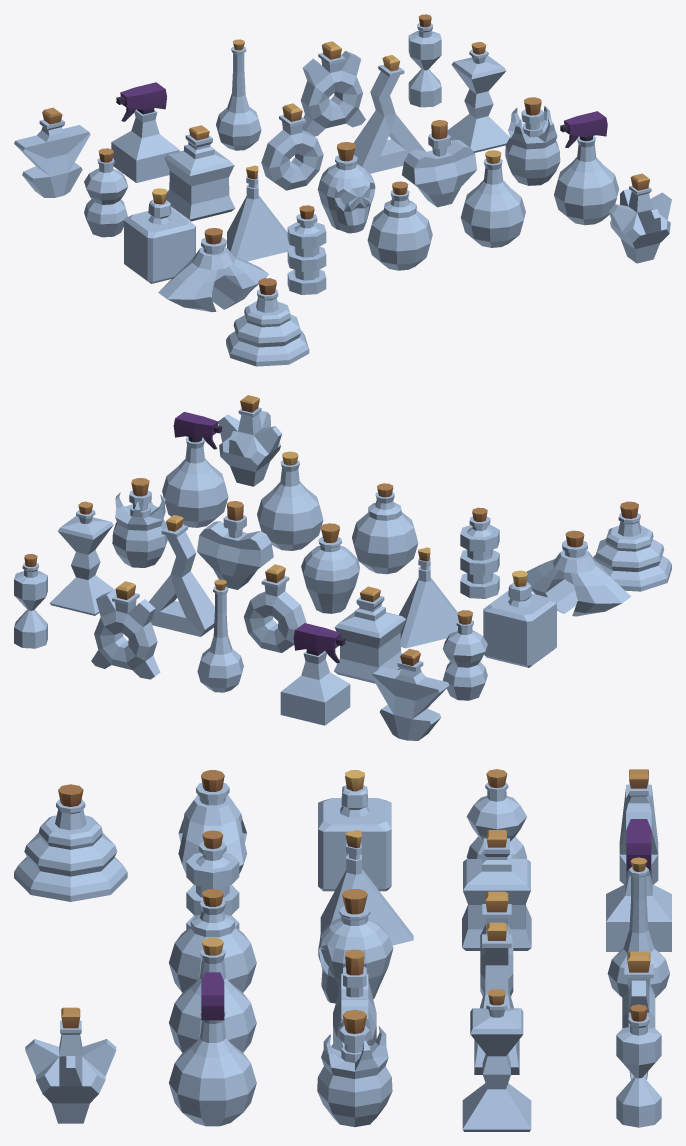
The model's file is Potions.fbx.
3 views of the same model, one above another, from view 1: azimuth 30°, elevation 25°; view 2: azimuth 150°, elevation 25°; view 3: azimuth 270°, elevation 25° (orthographic). The views are drawn at different scales.
Visible parts, largest first — view 1: Noctomulis, Parevimus, Frastimus, Muciesendis, Kafudiem, Acocumulis, Naciesendis, Destaminius, Aneleculumio, Ponvacilium, Magiviris, Vitis (+10 smaller); view 2: Frastimus, Parevimus, Noctomulis, Naciesendis, Acocumulis, Muciesendis, Aneleculumio, Kafudiem, Destaminius, Ponvacilium, Magiviris, Vitis (+10 smaller); view 3: Kafudiem, Parevimus, Igminius, Usastaminius, Frastimus, Revitris, Muciesendis, Antivitis, Magiviris, Ponvacilium, Naciesendis, Nodurmius (+10 smaller).
Part boxes in pixels (bbox=[...]): Noctomulis: bbox=[158, 228, 268, 312]; Parevimus: bbox=[554, 111, 618, 225]; Frastimus: bbox=[124, 188, 195, 283]; Muciesendis: bbox=[164, 125, 235, 221]; Kafudiem: bbox=[226, 278, 309, 366]; Acocumulis: bbox=[300, 41, 365, 136]; Naciesendis: bbox=[111, 82, 179, 182]; Destaminius: bbox=[14, 107, 90, 197]; Aneleculumio: bbox=[353, 55, 425, 173]; Ponvacilium: bbox=[460, 150, 525, 247]; Magiviris: bbox=[367, 181, 432, 270]; Vitis: bbox=[402, 120, 477, 207]; Frastimus: bbox=[483, 570, 556, 667]; Parevimus: bbox=[162, 412, 228, 527]; Noctomulis: bbox=[526, 530, 631, 616]; Naciesendis: bbox=[280, 623, 350, 725]; Acocumulis: bbox=[91, 581, 160, 679]; Muciesendis: bbox=[334, 586, 405, 683]; Aneleculumio: bbox=[149, 515, 214, 636]; Kafudiem: bbox=[593, 501, 671, 591]; Destaminius: bbox=[371, 648, 449, 740]; Ponvacilium: bbox=[257, 451, 323, 550]; Magiviris: bbox=[352, 483, 418, 574]; Vitis: bbox=[197, 501, 273, 589]; Kafudiem: bbox=[14, 784, 127, 901]; Parevimus: bbox=[169, 972, 256, 1126]; Igminius: bbox=[317, 1009, 392, 1127]; Usastaminius: bbox=[462, 989, 531, 1131]; Frastimus: bbox=[318, 770, 391, 891]; Revitris: bbox=[25, 1007, 116, 1123]; Muciesendis: bbox=[462, 830, 531, 950]; Antivitis: bbox=[318, 889, 393, 1003]; Magiviris: bbox=[169, 889, 256, 992]; Ponvacilium: bbox=[169, 938, 256, 1052]; Naciesendis: bbox=[606, 819, 671, 951]; Nodurmius: bbox=[616, 1004, 661, 1127].
Bounding box in the file's own units: 243 × 56.43 × 232.
